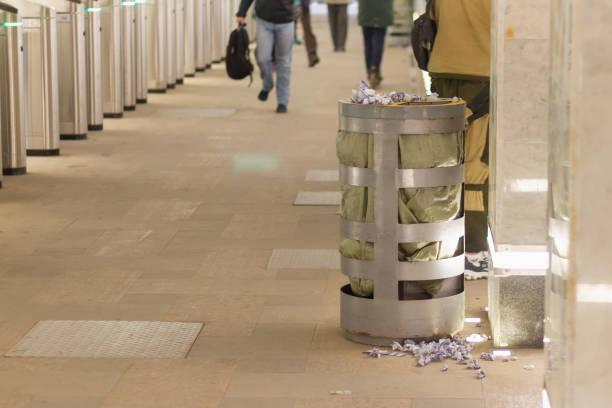trash: (357, 329, 491, 383), (341, 73, 461, 111), (459, 245, 497, 286)
trash_can_overflow: (328, 64, 506, 384)
